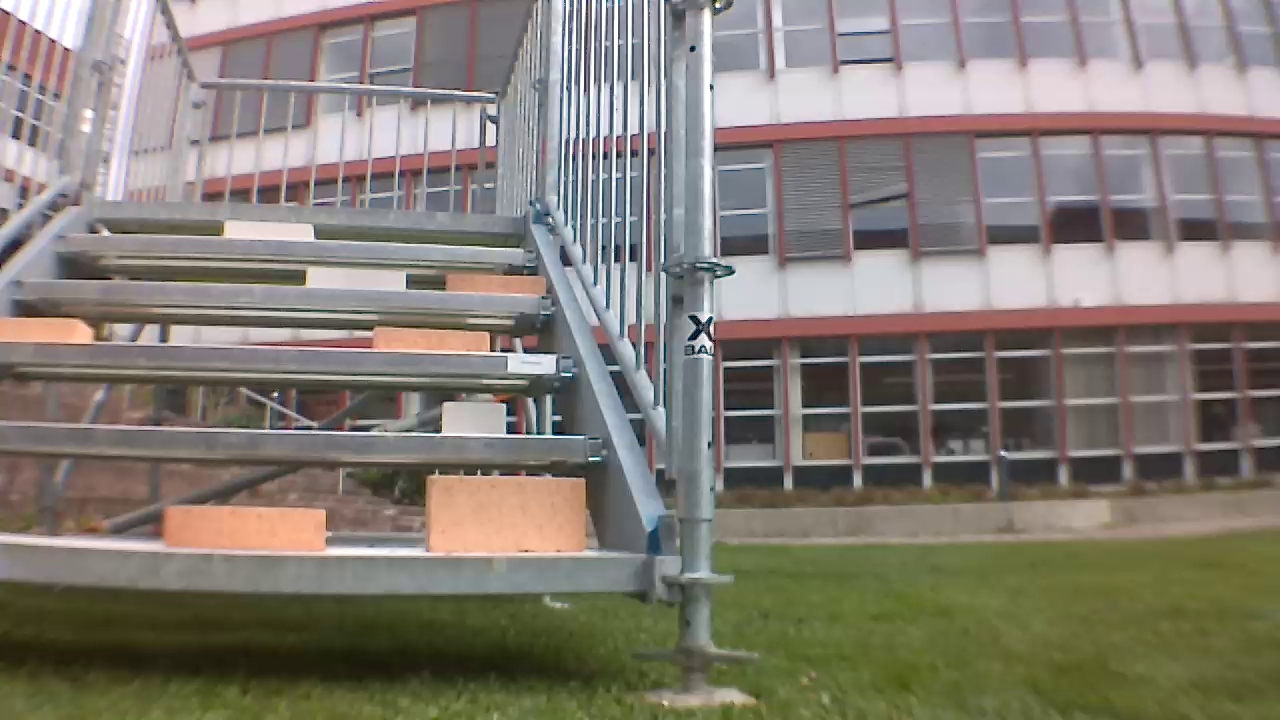brick: (427, 473, 587, 550), (160, 505, 339, 545), (366, 326, 494, 355), (300, 261, 413, 288), (434, 399, 517, 432), (0, 315, 97, 342), (440, 274, 557, 295), (223, 218, 312, 240)
edge: (4, 265, 551, 322), (0, 428, 592, 473), (0, 346, 583, 374), (52, 231, 533, 259), (74, 198, 533, 222)
stairs: (0, 0, 716, 665)
steps: (0, 195, 643, 592)
